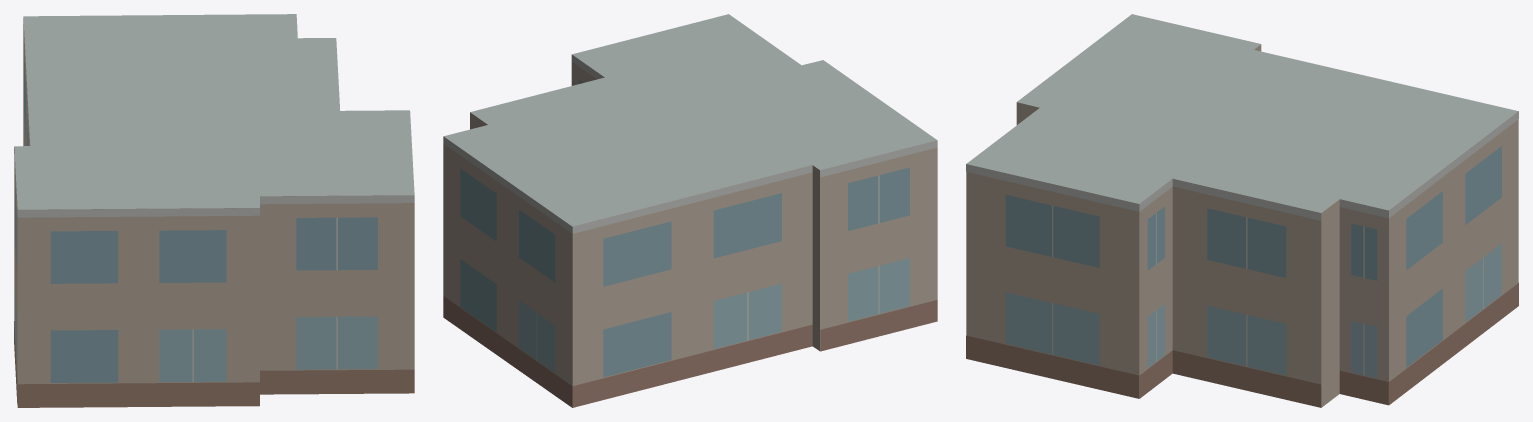
The model's file is survey-upis-33011941.glb.
The picture shows the model from 3 angles, left to right: view 1: azimuth 30°, elevation 25°; view 2: azimuth 150°, elevation 25°; view 3: azimuth 270°, elevation 25°; orthographic projection. The views are drawn at different scales.
Visible parts, largest first — view 1: survey-upis-33011941.tmp; view 2: survey-upis-33011941.tmp; view 3: survey-upis-33011941.tmp.
Boxes of the visible parts, x1=… form: survey-upis-33011941.tmp: x1=14, y1=14, x2=414, y2=407; survey-upis-33011941.tmp: x1=443, y1=14, x2=937, y2=407; survey-upis-33011941.tmp: x1=966, y1=14, x2=1518, y2=407.
Bounding box in the file's own units: 13.38 × 6.1 × 15.69.
